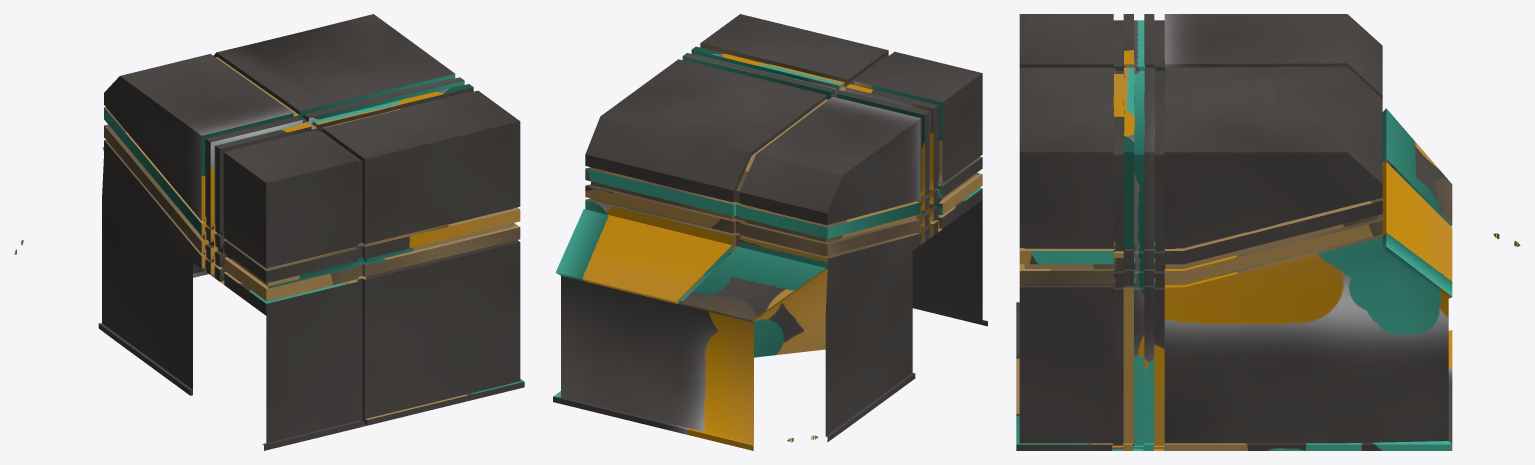
Rendered from House Base 1.fbx.
3 views of the same model, side by side, from view 1: azimuth 30°, elevation 25°; view 2: azimuth 150°, elevation 25°; view 3: azimuth 270°, elevation 25° (orthographic). The views are drawn at different scales.
Visible parts, largest first — view 1: House_Base; view 2: House_Base; view 3: House_Base.
Part boxes in pixels (x1,y1,x2,y2): House_Base: (14, 14, 524, 450); House_Base: (553, 14, 987, 450); House_Base: (1016, 14, 1520, 450).
Bounding box in the file's own units: 951 × 814 × 1253.
1 material, 1 textured.
